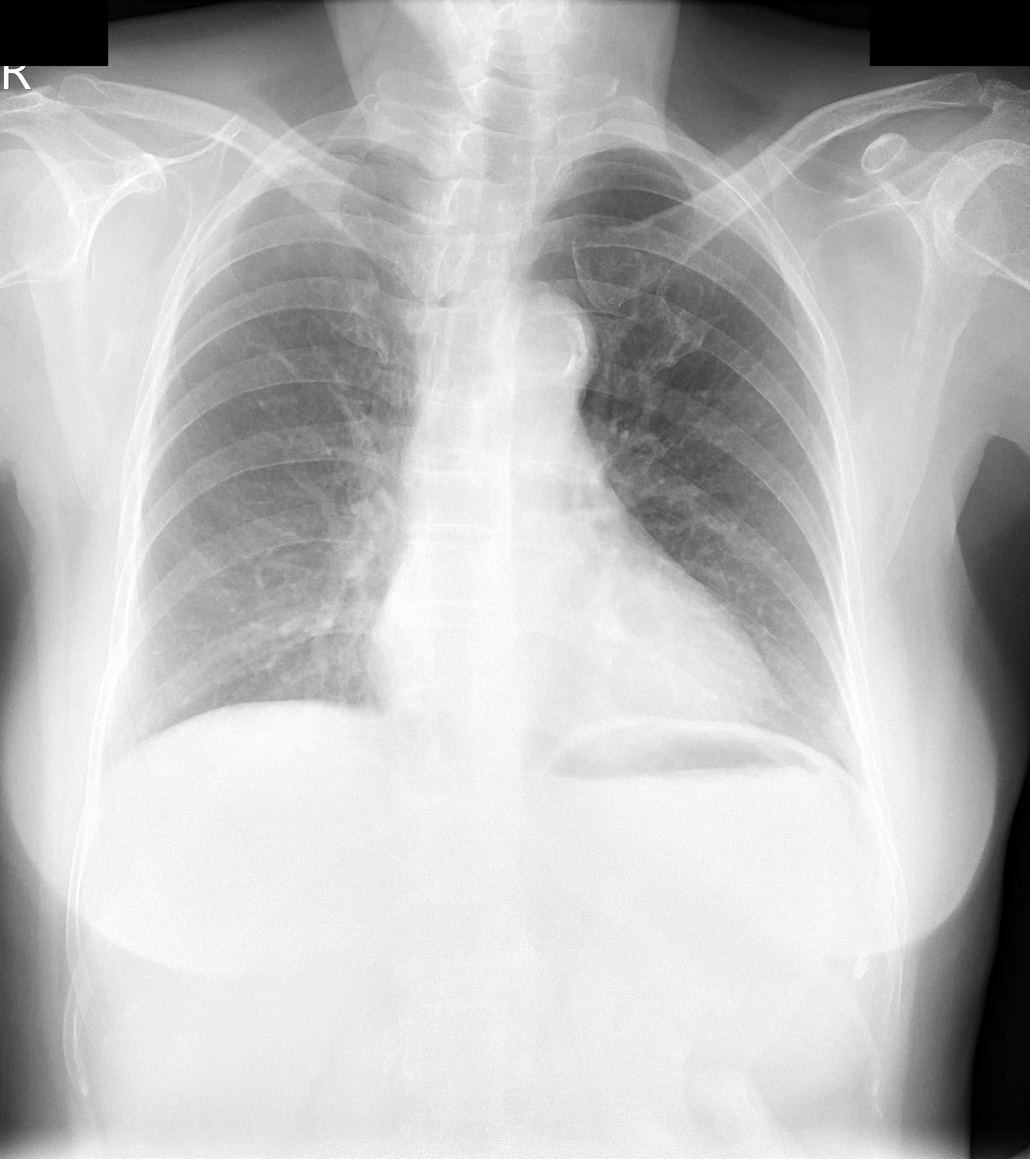Aortic enlargement: (483, 288, 596, 424)
Cardiomegaly: (357, 595, 776, 748)
